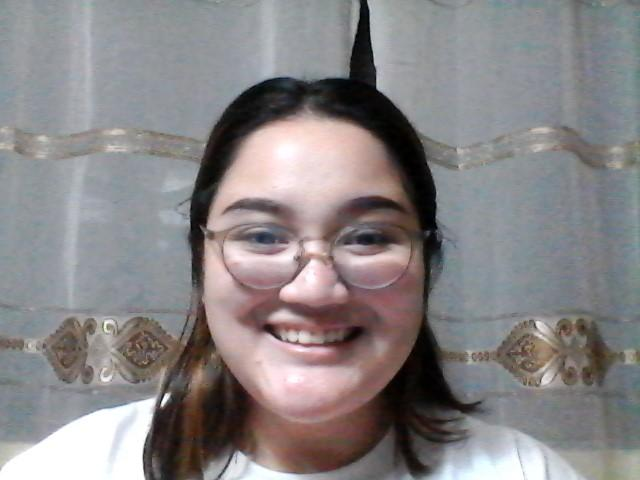senang: (203, 131, 429, 421)
